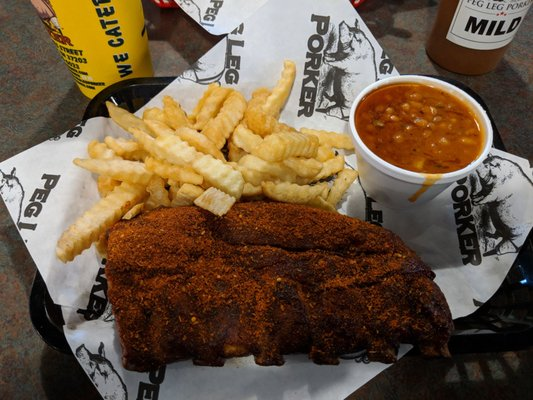pizza: (348, 74, 495, 266), (30, 0, 155, 101)
soup: (101, 198, 455, 373)
